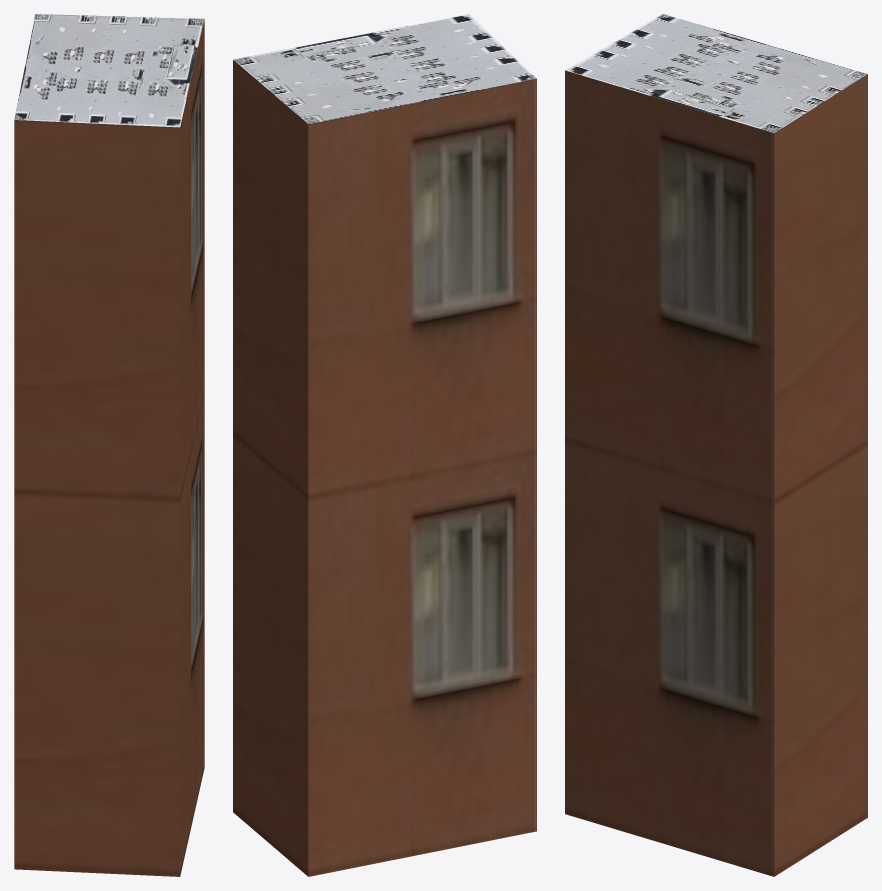
File: ResTex__3626.fbx
3 renders of one model, left to right at view 1: azimuth 30°, elevation 25°; view 2: azimuth 150°, elevation 25°; view 3: azimuth 270°, elevation 25°, orthographic.
Parts seen in each view (by area): view 1: CityEngineMaterial_20_m, CityEngineMaterial_m; view 2: CityEngineMaterial_20_m, CityEngineMaterial_m; view 3: CityEngineMaterial_20_m, CityEngineMaterial_m.
Part boxes in pixels (x1=…): CityEngineMaterial_20_m: x1=14, y1=19, x2=204, y2=876; CityEngineMaterial_m: x1=14, y1=14, x2=204, y2=127; CityEngineMaterial_20_m: x1=233, y1=60, x2=536, y2=876; CityEngineMaterial_m: x1=233, y1=14, x2=536, y2=124; CityEngineMaterial_20_m: x1=565, y1=70, x2=867, y2=876; CityEngineMaterial_m: x1=565, y1=14, x2=867, y2=132.
Size of the model in its own units: 2.06 by 6 by 2.21.
2 materials, 2 textured.
